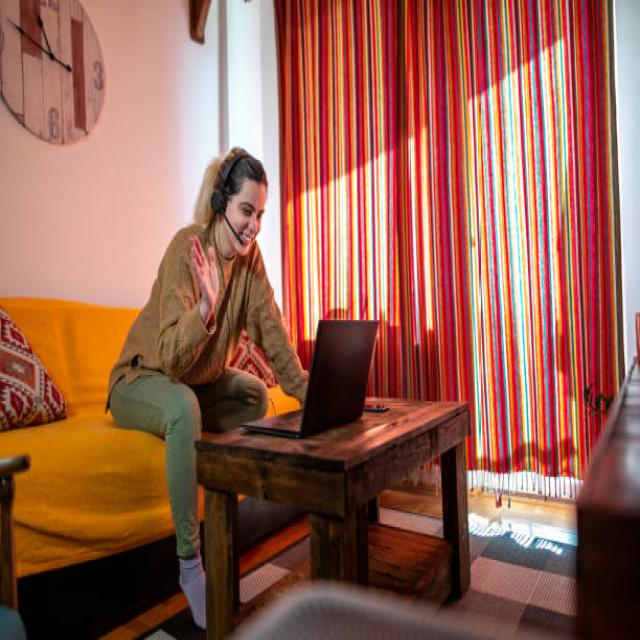Headphone: (210, 149, 251, 245)
